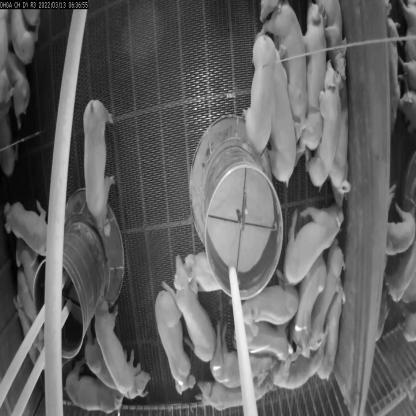Pig: (260, 0, 307, 145), (162, 255, 216, 365), (260, 30, 298, 184), (78, 86, 118, 229), (94, 296, 148, 401), (285, 193, 342, 289), (305, 48, 339, 190), (242, 33, 278, 156), (298, 11, 325, 150), (156, 288, 192, 390), (1, 188, 50, 260), (311, 232, 338, 351), (241, 283, 310, 326), (197, 376, 268, 415), (288, 260, 318, 352), (240, 316, 292, 363), (62, 376, 122, 415), (184, 248, 227, 302), (320, 293, 344, 386), (216, 352, 280, 386)
